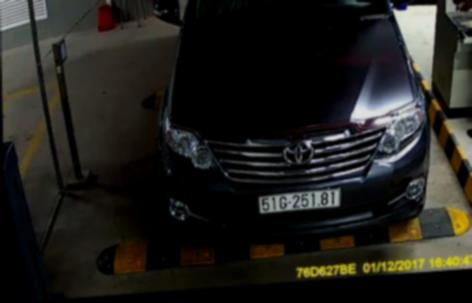License_Plate: (253, 182, 343, 217)
